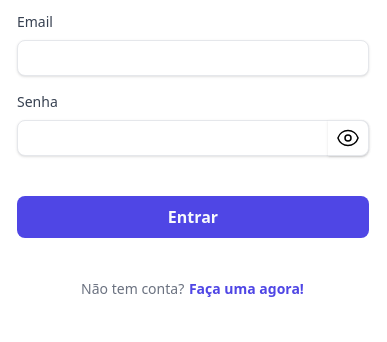
Test case: [SigninForm] index › should show error message with invalid input
This screenshot has width=387, height=342.
Type "email@gmail.com" into the field labelled "Email" at (193, 58), box [17,40,369,76]
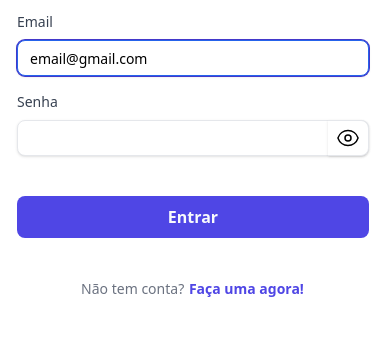
Click the button "Entrar" at (193, 217), box [17,196,369,238]
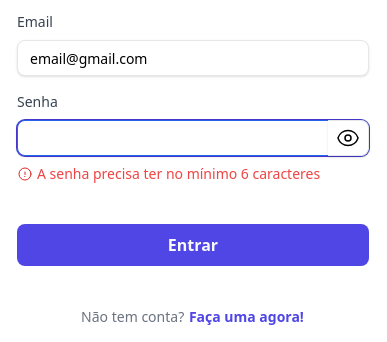
Now the element with test id "form-error" is shown, box [17,164,369,184]
